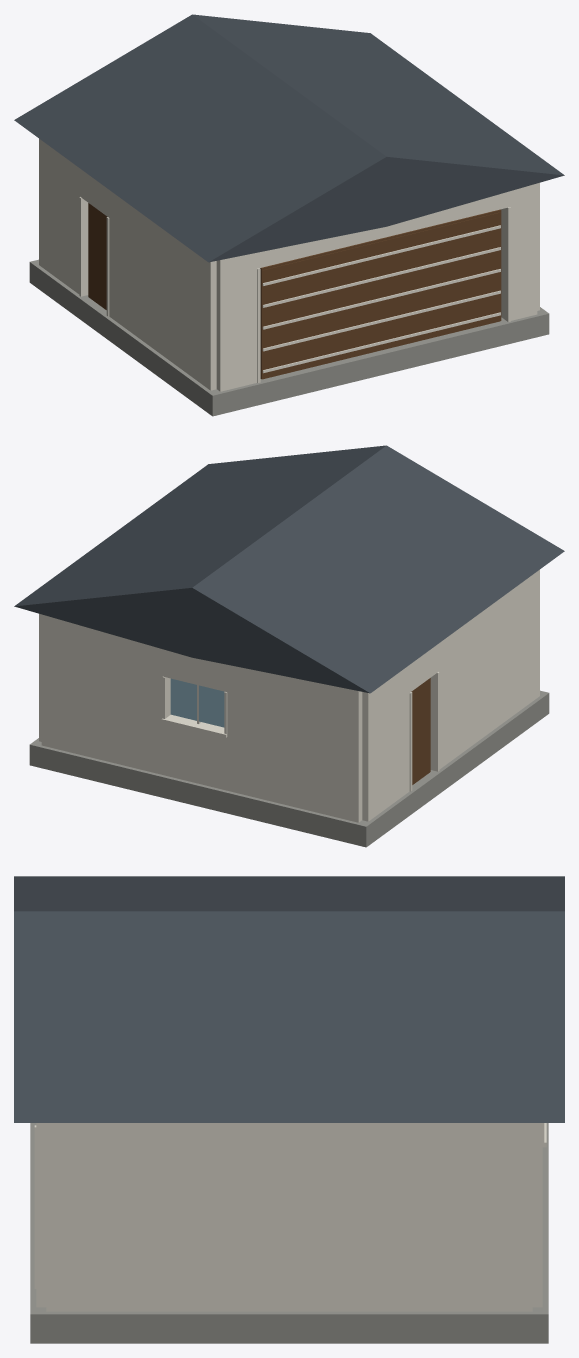
Rendered from GB_Garage_01.glb.
3 renders of one model, top to bottom at view 1: azimuth 30°, elevation 25°; view 2: azimuth 150°, elevation 25°; view 3: azimuth 270°, elevation 25°, orthographic. The views are drawn at different scales.
Parts seen in each view (by area): view 1: GB_Garage_01; view 2: GB_Garage_01; view 3: GB_Garage_01.
Boxes of the visible parts, box(x1,y1,x2,y2) form: GB_Garage_01: box(14, 14, 564, 416); GB_Garage_01: box(14, 445, 564, 847); GB_Garage_01: box(14, 876, 564, 1343).
Bounding box in the file's own units: 7.2 × 4.3 × 6.8.
1 material, 1 textured.
